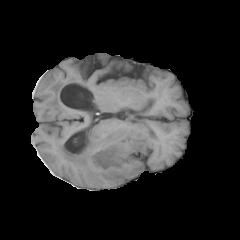glioma: (46, 80, 159, 182)
